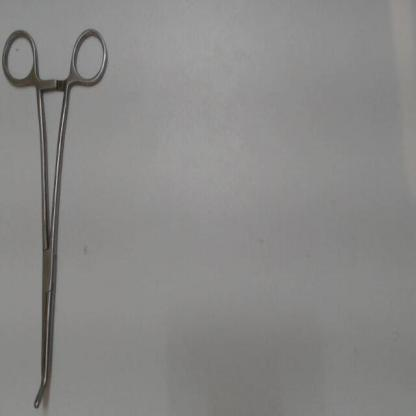Lahey Forceps: (1, 20, 115, 412)
